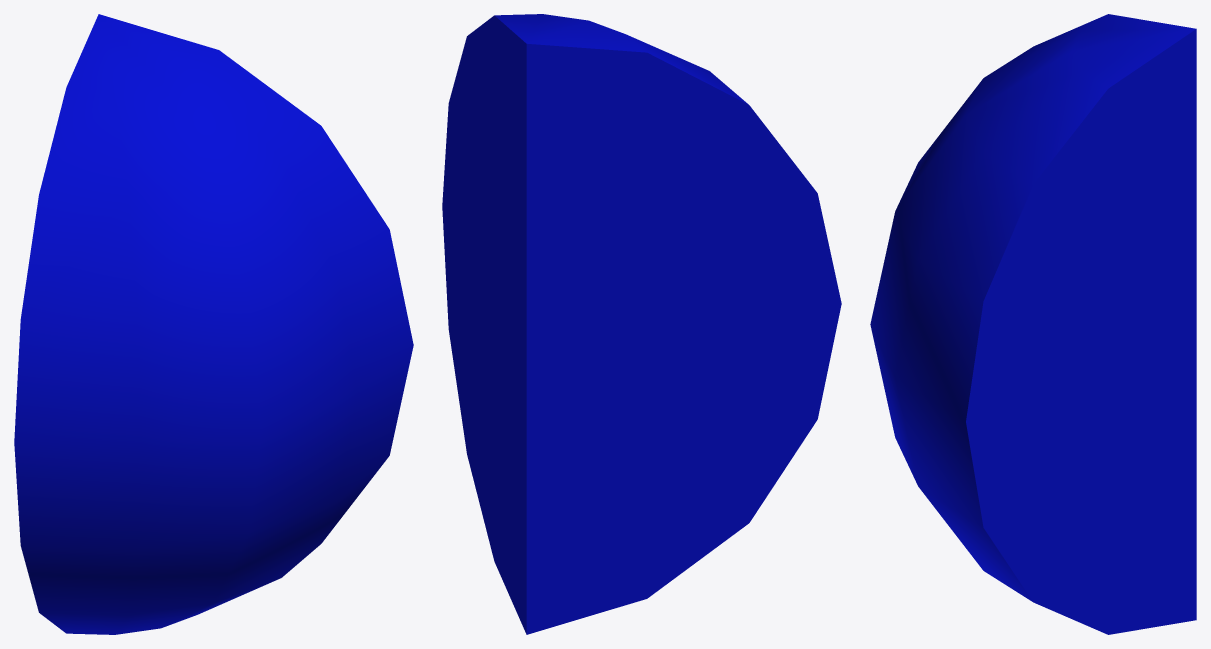
The model's file is shield0.obj.
3 renders of one model, left to right at view 1: azimuth 30°, elevation 25°; view 2: azimuth 150°, elevation 25°; view 3: azimuth 270°, elevation 25°, orthographic.
Parts seen in each view (by area): view 1: $dummy_node; view 2: $dummy_node; view 3: $dummy_node.
Part boxes in pixels (box(x1,y1,x2,y2)): $dummy_node: box(14, 14, 413, 634); $dummy_node: box(442, 14, 841, 634); $dummy_node: box(870, 14, 1196, 634).
Bounding box in the file's own units: 1.41 × 2 × 1.
